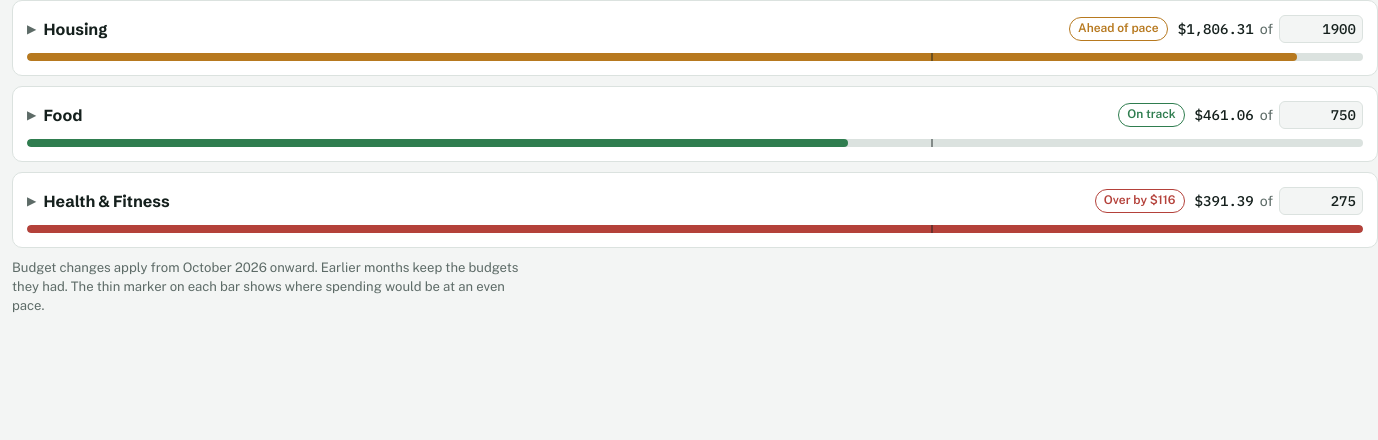
Test: BudgetView › expands a category to its subcategories
Click the button "▶ Housing" at (76, 29), box [27,19,1059,39]
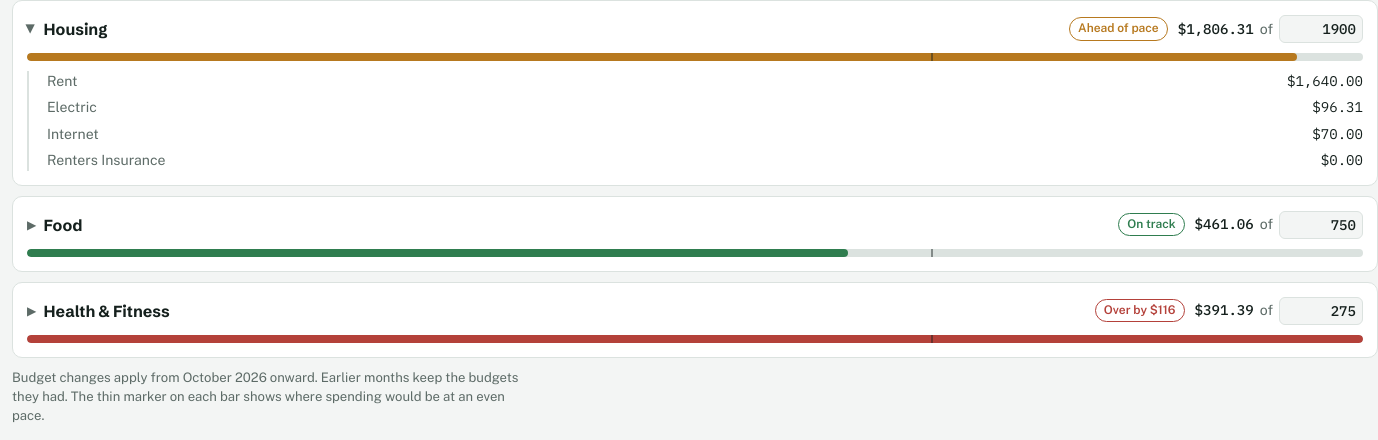
Expected: the button "▶ Housing" is expanded, [27,19,1059,39]
Expected: the text "Renters Insurance" is shown, [47,150,166,171]
Expected: the text "$1,640.00" is shown, [1287,71,1363,91]
